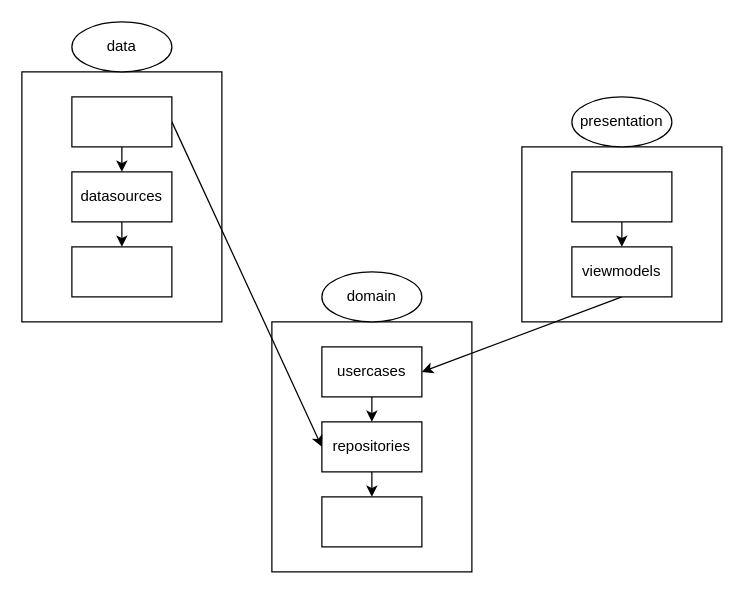
The diagram is 744 pixels wide and 594 high, and some of its shapes have lost their labels. The shapes that lost their labels are listed below. From the top down, each one's centre as x and y in pixels, then its label:
point 121,121: repositories (impl)
point 621,196: views
point 121,271: models
point 371,521: entities
